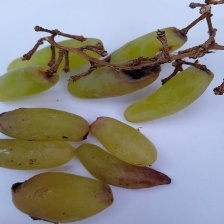grapes: (2, 19, 197, 195)
